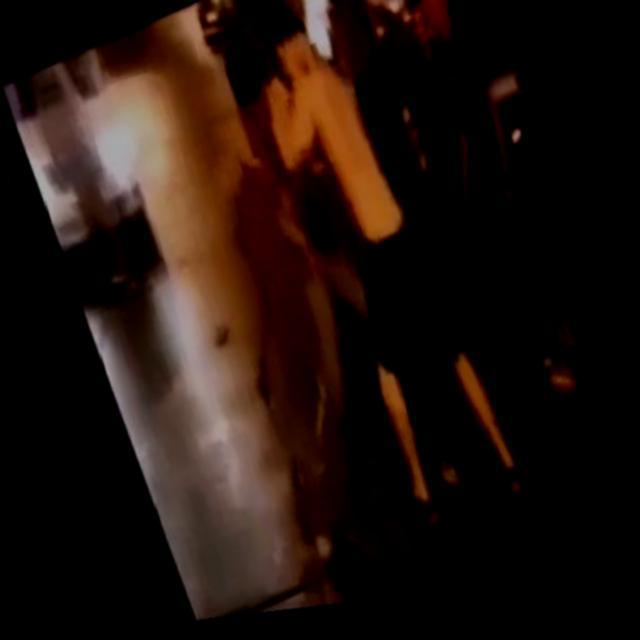fight: (186, 0, 501, 563)
